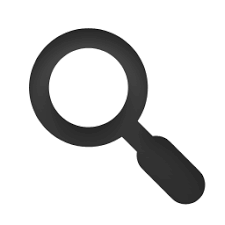searchIcon: (28, 28, 204, 204)
